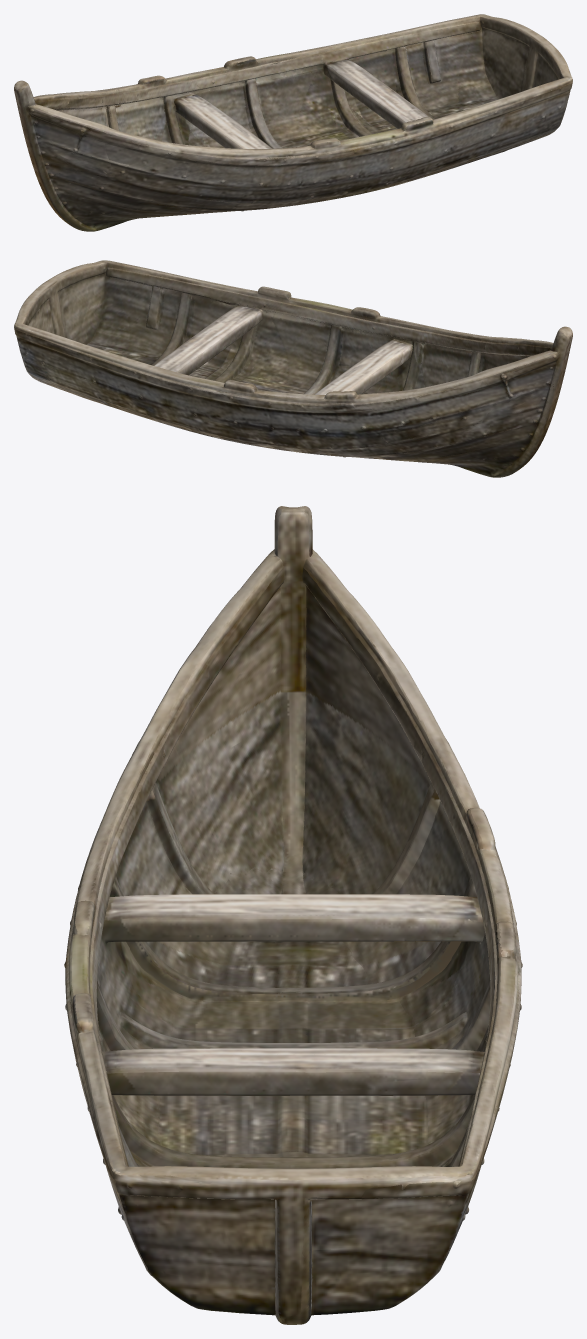
The model's file is blue_roof_coastal_cottage.glb.
3 renders of one model, top to bottom at view 1: azimuth 30°, elevation 25°; view 2: azimuth 150°, elevation 25°; view 3: azimuth 270°, elevation 25°, orthographic. The views are drawn at different scales.
Parts seen in each view (by area): view 1: geometry_0; view 2: geometry_0; view 3: geometry_0.
Boxes of the visible parts, left/top/right/bottom form: geometry_0: left=14, top=14, right=572, bottom=231; geometry_0: left=14, top=260, right=572, bottom=477; geometry_0: left=64, top=506, right=522, bottom=1324.
Size of the model in its own units: 2.86 by 0.85 by 1.07.
1 material, 1 textured.
